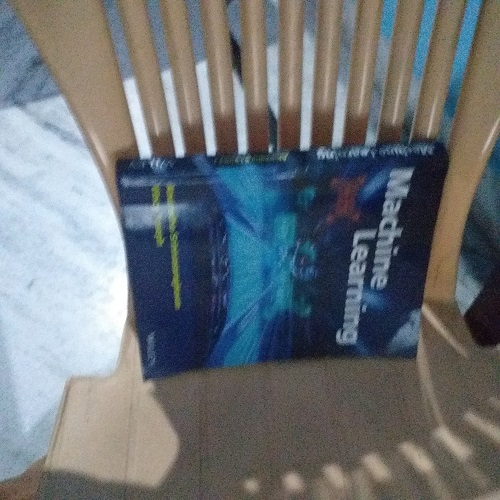book: (104, 149, 448, 381)
